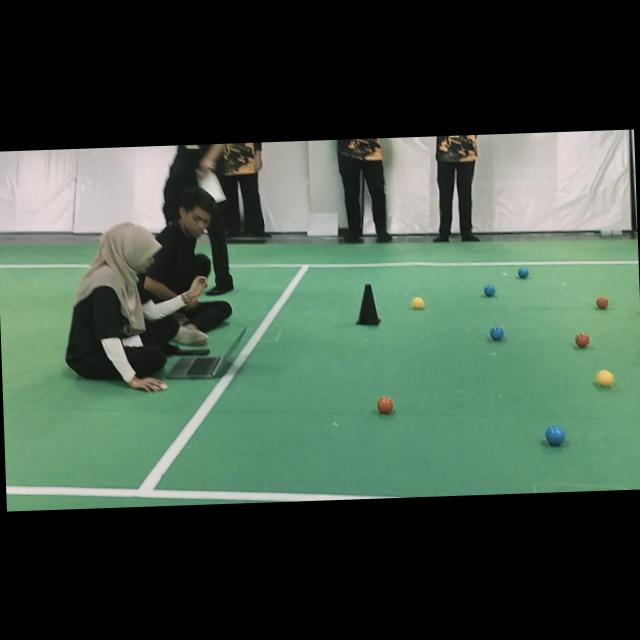ball: (545, 426, 565, 445), (377, 395, 394, 413), (596, 369, 613, 386), (489, 326, 503, 340), (575, 332, 589, 346), (596, 295, 608, 309), (483, 284, 495, 297), (412, 297, 425, 309), (517, 267, 529, 278)
